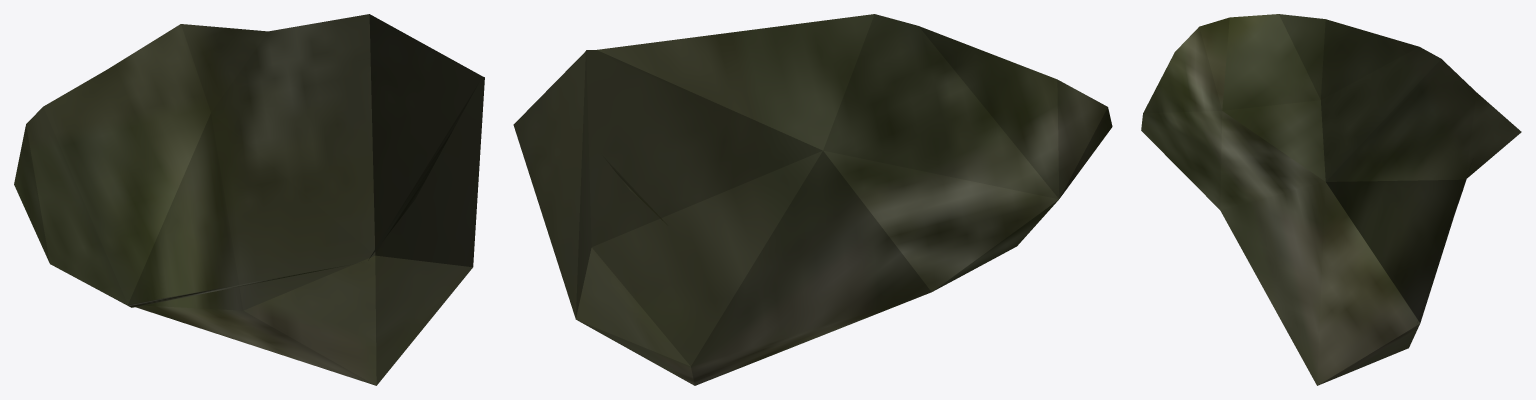
The picture shows the model from 3 angles, left to right: view 1: azimuth 30°, elevation 25°; view 2: azimuth 150°, elevation 25°; view 3: azimuth 270°, elevation 25°; orthographic projection. The views are drawn at different scales.
Size of the model in its own units: 0.4184 by 0.2391 by 0.3625.
1 material, 1 textured.
